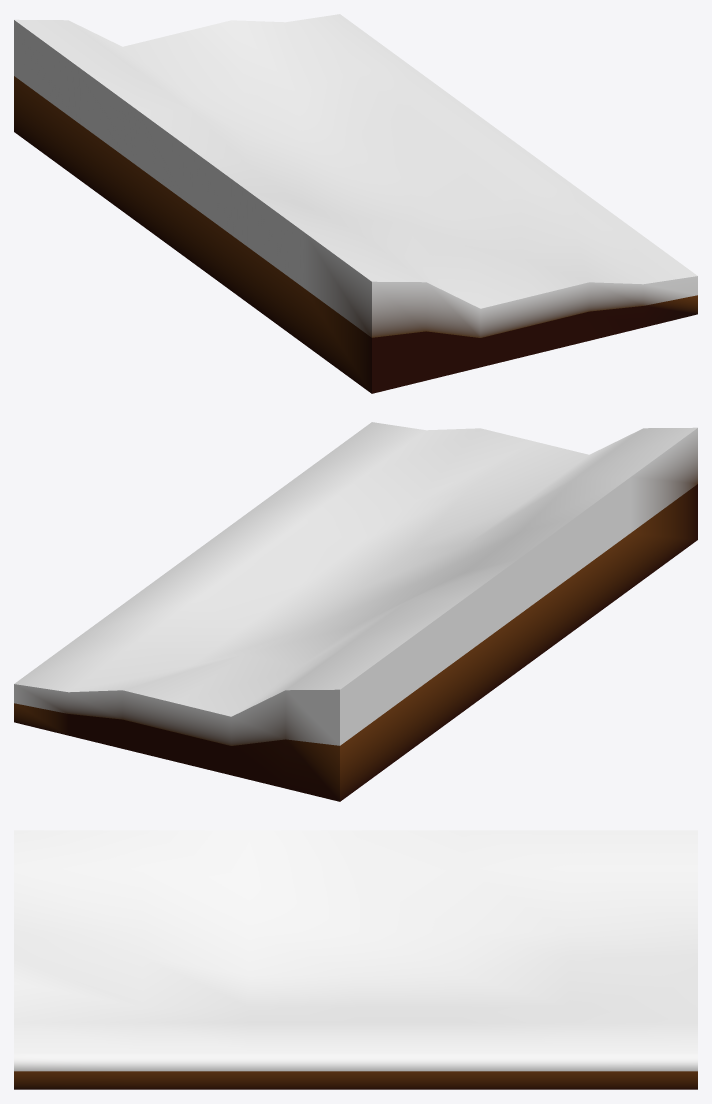
Rendered from Chao 1.fbx.
3 views of the same model, one above another, from view 1: azimuth 30°, elevation 25°; view 2: azimuth 150°, elevation 25°; view 3: azimuth 270°, elevation 25° (orthographic). The views are drawn at different scales.
Parts seen in each view (by area): view 1: Chão; view 2: Chão; view 3: Chão.
Part boxes in pixels (x1,y1,x2,y2): Chão: (14,14,697,393); Chão: (14,422,697,801); Chão: (14,830,697,1089).
Bounding box in the file's own units: 1189 × 391 × 2260.
